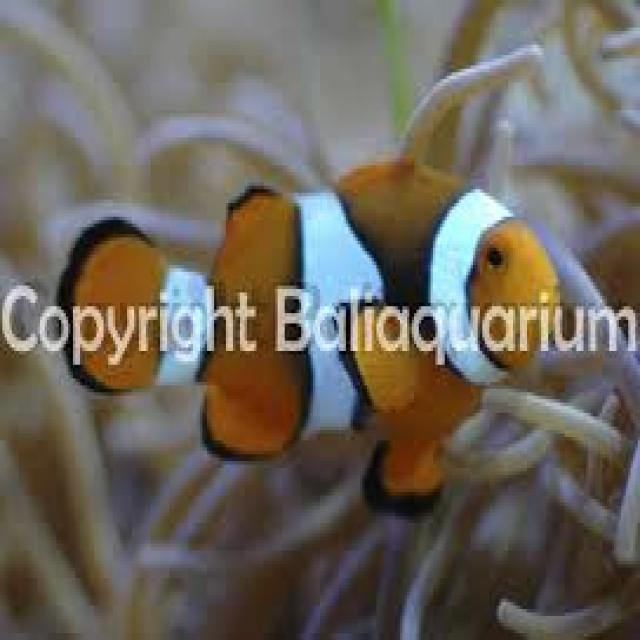Amphiprion-percula: (52, 147, 587, 507)
